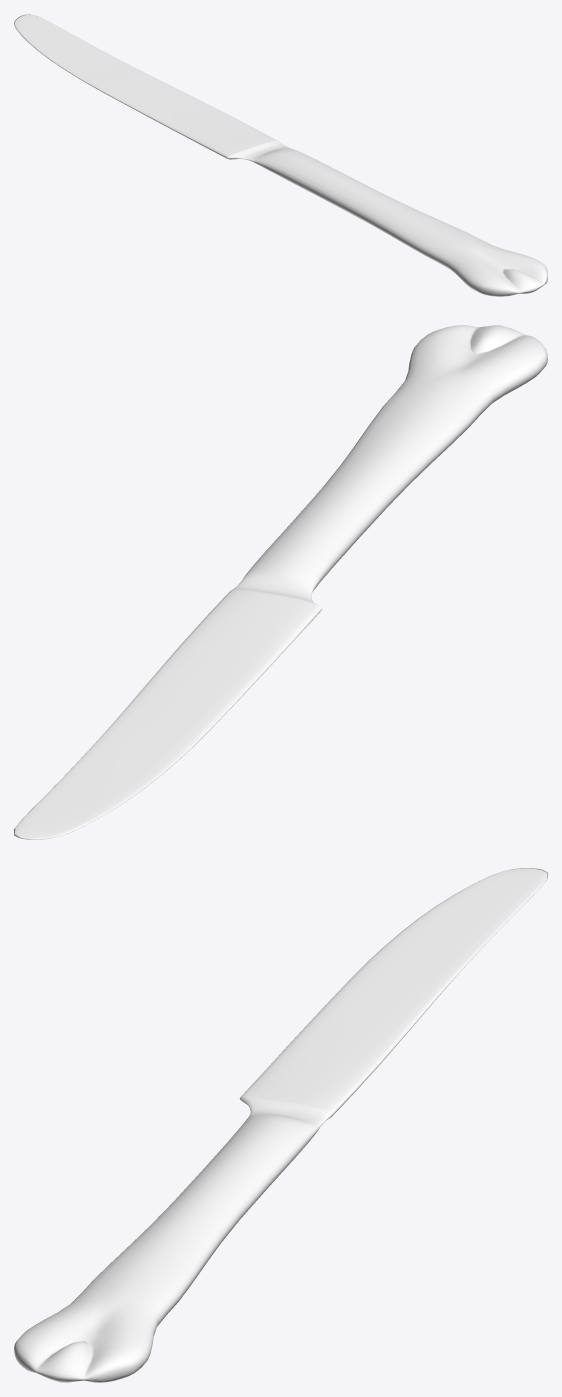
The model's file is dao.fbx.
3 renders of one model, top to bottom at view 1: azimuth 30°, elevation 25°; view 2: azimuth 150°, elevation 25°; view 3: azimuth 330°, elevation 25°, orthographic. The views are drawn at different scales.
Parts seen in each view (by area): view 1: polySurface1; view 2: polySurface1; view 3: polySurface1.
Boxes of the visible parts, box(x1,y1,x2,y2) form: polySurface1: box(14, 14, 547, 296); polySurface1: box(14, 325, 547, 839); polySurface1: box(14, 868, 547, 1382).
Bounding box in the file's own units: 5.74 × 0.6744 × 25.64.
